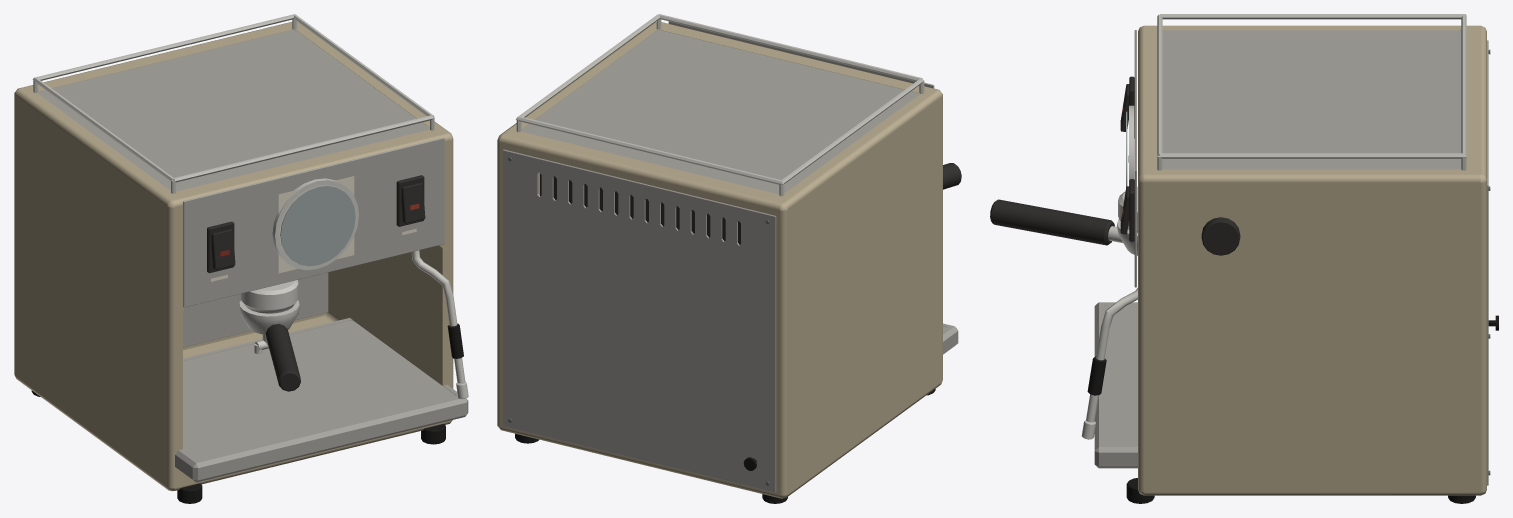
The model's file is espresso-machine-4a9edd13b760.glb.
The picture shows the model from 3 angles, left to right: view 1: azimuth 30°, elevation 25°; view 2: azimuth 150°, elevation 25°; view 3: azimuth 270°, elevation 25°; orthographic projection. The views are drawn at different scales.
Visible parts, largest first — view 1: enamel-beige, grille-brushed, brushed, chrome, glass-clear, plastic-dark, rubber-foot, decal-ink; view 2: brushed, enamel-beige, grille-brushed, chrome, plastic-dark; view 3: enamel-beige, grille-brushed, chrome, plastic-dark, brushed, rubber-foot.
Boxes of the visible parts, left/top/right/bottom form: enamel-beige: left=14, top=21, right=453, bottom=491; grille-brushed: left=37, top=30, right=456, bottom=459; brushed: left=175, top=137, right=468, bottom=482; chrome: left=32, top=14, right=468, bottom=399; glass-clear: left=280, top=185, right=355, bottom=266; plastic-dark: left=207, top=175, right=425, bottom=391; rubber-foot: left=31, top=323, right=463, bottom=503; decal-ink: left=211, top=176, right=416, bottom=281; brushed: left=503, top=21, right=958, bottom=492; enamel-beige: left=497, top=22, right=942, bottom=498; grille-brushed: left=521, top=30, right=946, bottom=330; chrome: left=516, top=14, right=924, bottom=196; plastic-dark: left=540, top=163, right=961, bottom=244; enamel-beige: left=1138, top=25, right=1486, bottom=495; grille-brushed: left=1104, top=30, right=1461, bottom=444; chrome: left=1081, top=14, right=1466, bottom=439; plastic-dark: left=990, top=76, right=1240, bottom=255; brushed: left=1094, top=30, right=1488, bottom=485; rubber-foot: left=1087, top=315, right=1498, bottom=503.
Bounding box in the file's own units: 0.35 × 0.3592 × 0.475.
